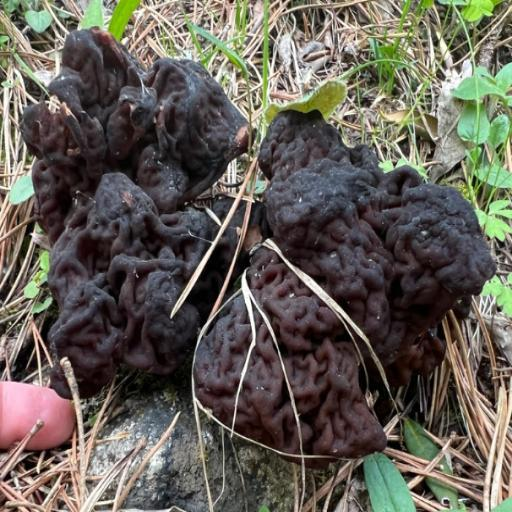mushroom: (0, 28, 264, 421), (0, 0, 1, 1)
